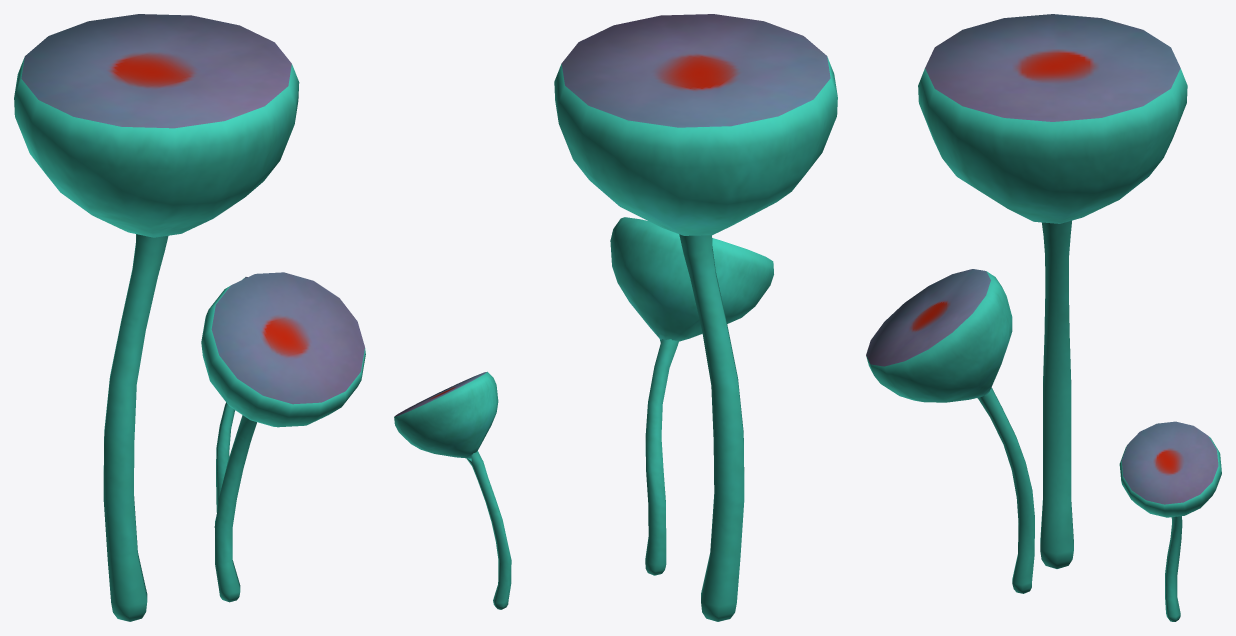
File: Cartoon Seaweed_13-1-22.fbx
The picture shows the model from 3 angles, left to right: view 1: azimuth 30°, elevation 25°; view 2: azimuth 150°, elevation 25°; view 3: azimuth 270°, elevation 25°; orthographic projection. The views are drawn at different scales.
Parts seen in each view (by area): view 1: Cartoon Seaweed_13.1.22; view 2: Cartoon Seaweed_13.1.22; view 3: Cartoon Seaweed_13.1.22.
Part boxes in pixels (x1,y1,x2,y2): Cartoon Seaweed_13.1.22: [14, 14, 365, 621]; Cartoon Seaweed_13.1.22: [394, 14, 837, 621]; Cartoon Seaweed_13.1.22: [866, 14, 1221, 621].
Size of the model in its own units: 14.1 by 20.69 by 13.03.
1 material, 1 textured.
